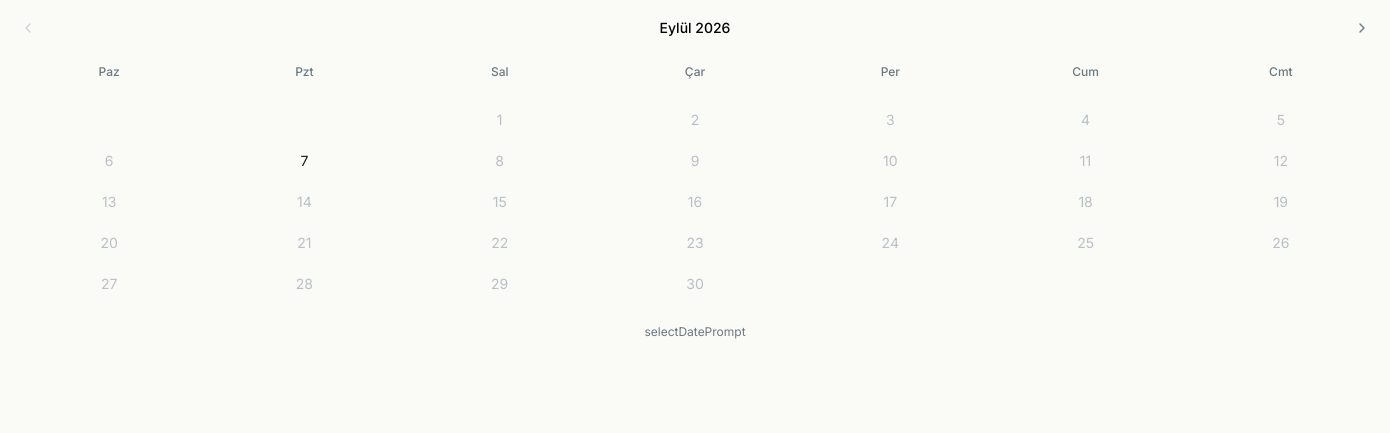
CalendarPicker — sunucudan müsaitlik › SABİT saat listesi ÜRETMEZ, sunucudan geleni gösterir
Click the button named "7 Eylül" at {"x": 304, "y": 161}, box [286,143,322,179]
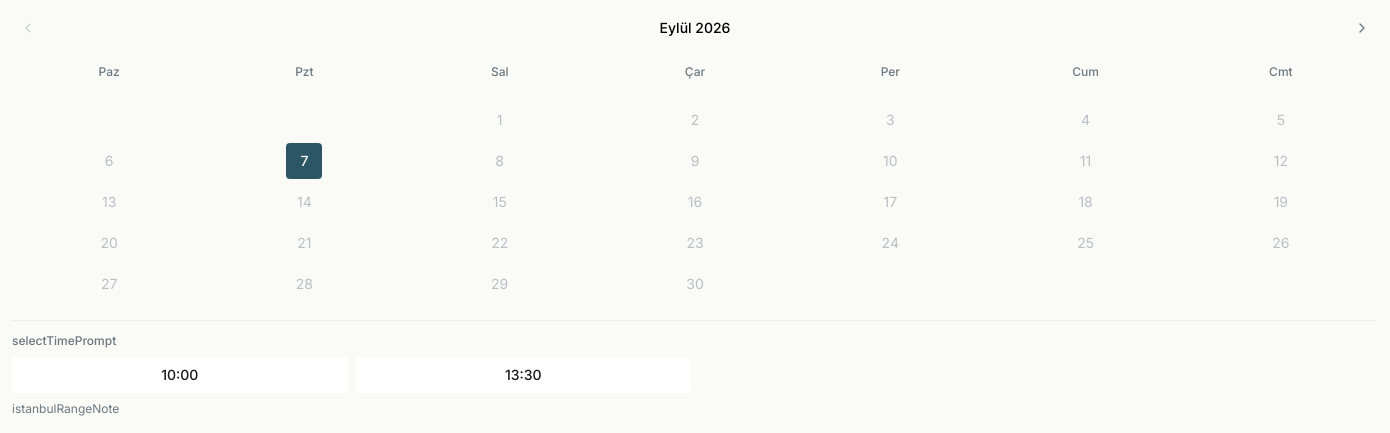
Check: the number of buttons "10:00" is 2, box [12,357,348,393]; [356,357,691,393]
